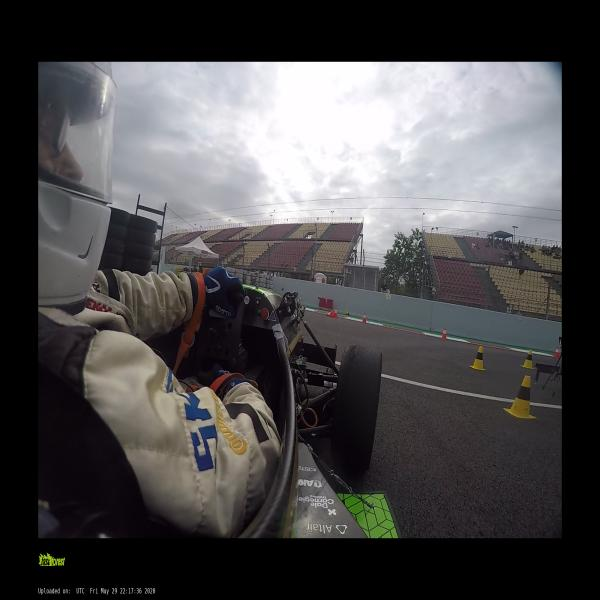orange_cone: (554, 346, 560, 357), (326, 309, 334, 316), (442, 328, 447, 339), (362, 312, 366, 323), (334, 308, 337, 318)
yellow_cone: (504, 375, 536, 419), (470, 346, 486, 370), (521, 349, 535, 369)
